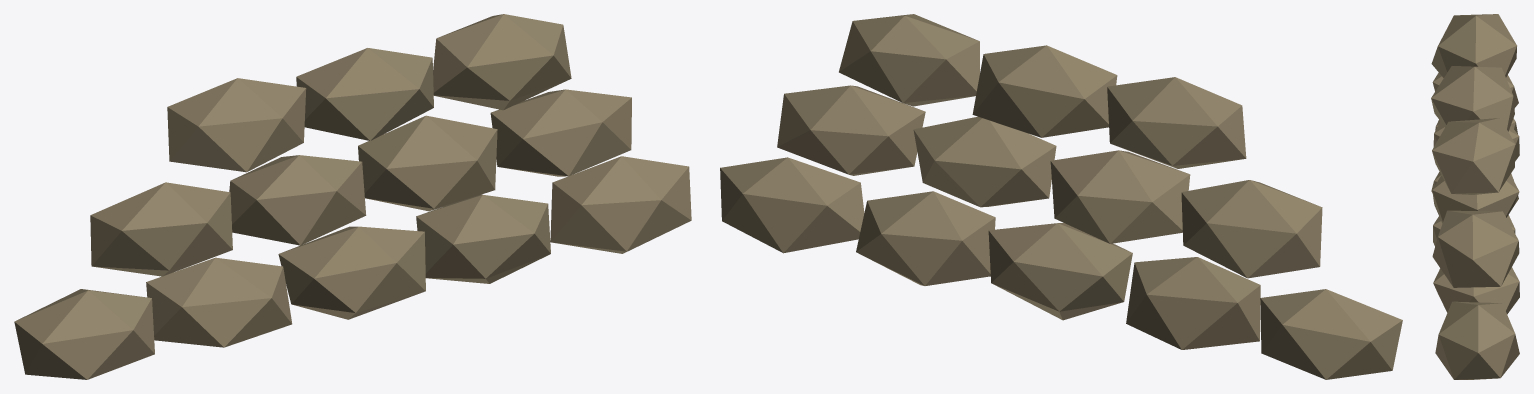
File: sandbag_wall.glb
3 renders of one model, left to right at view 1: azimuth 30°, elevation 25°; view 2: azimuth 150°, elevation 25°; view 3: azimuth 270°, elevation 25°, orthographic. The views are drawn at different scales.
Parts seen in each view (by area): view 1: sandbag_wall; view 2: sandbag_wall; view 3: sandbag_wall.
Boxes of the visible parts, x1,y1,x2,y2 form: sandbag_wall: [14, 14, 691, 379]; sandbag_wall: [720, 14, 1402, 379]; sandbag_wall: [1431, 14, 1519, 379].
Bounding box in the file's own units: 2.25 × 0.8686 × 0.324.
